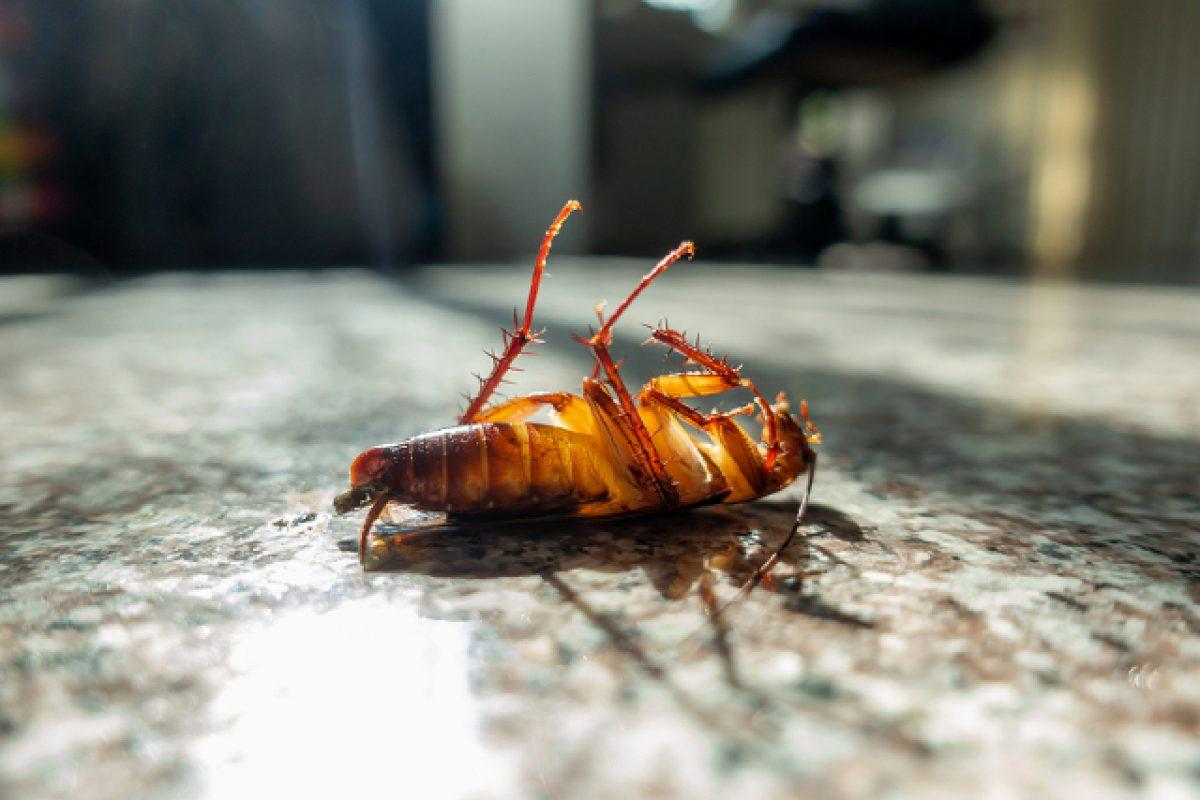cockroach: (332, 332, 828, 560)
